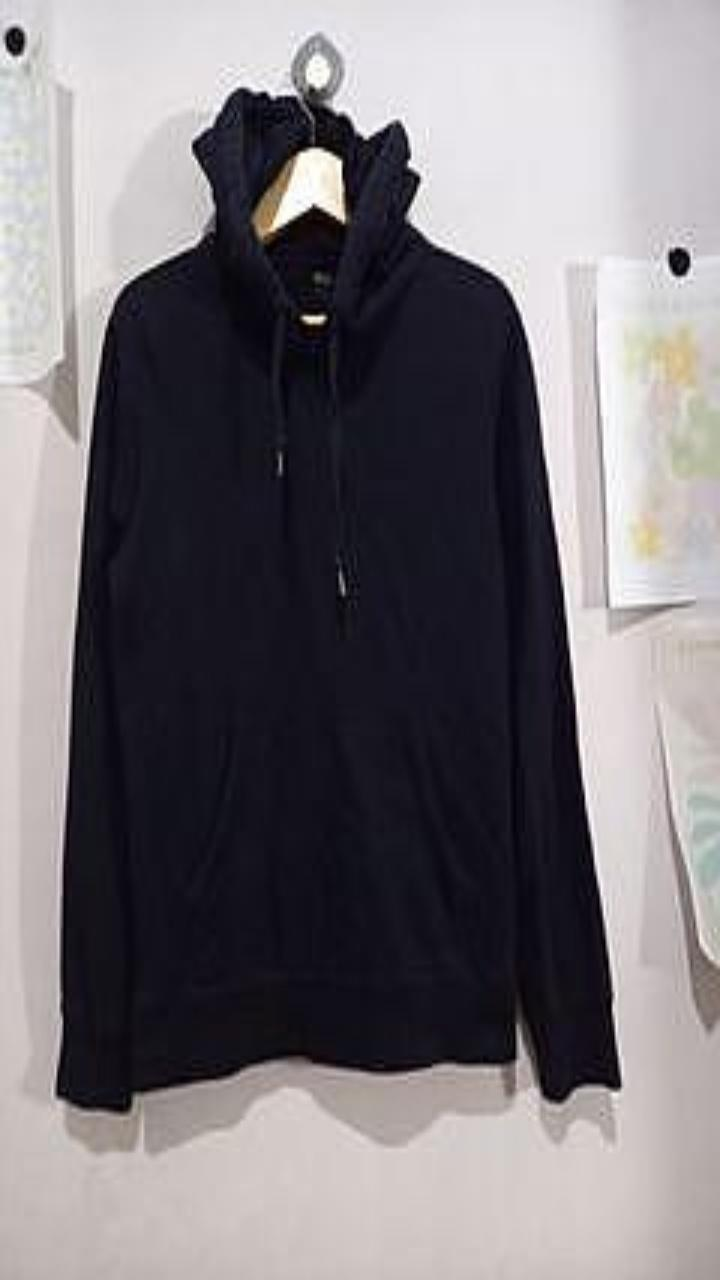Hoodie: (56, 88, 619, 1110)
